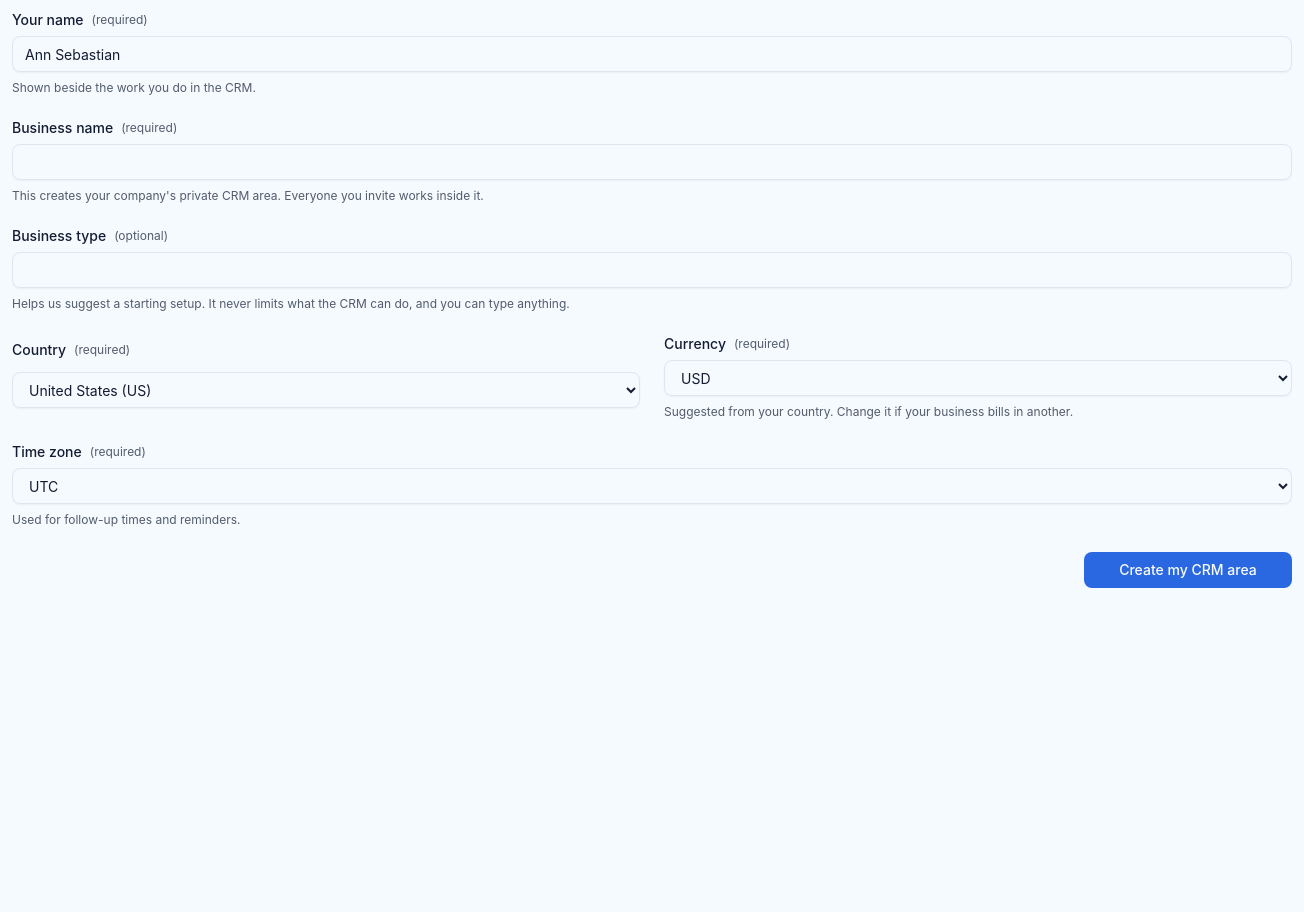
Test: validation feedback › 15. shows server field issues beside the right controls
Click the button "Create my CRM area" at (1188, 570), box [1084,552,1292,588]
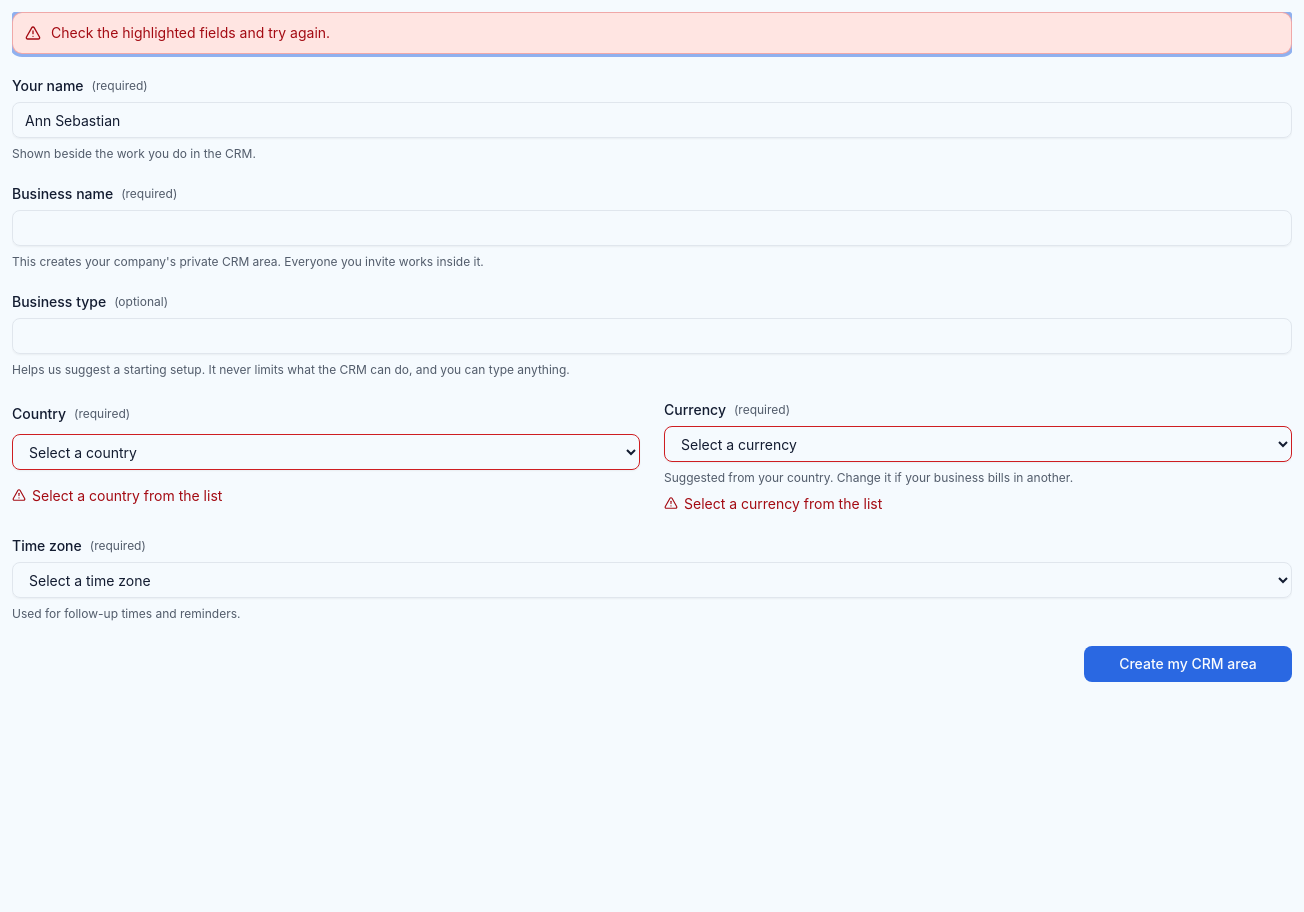
Now the text "Select a country from the list" is shown, box [32,486,222,506]
